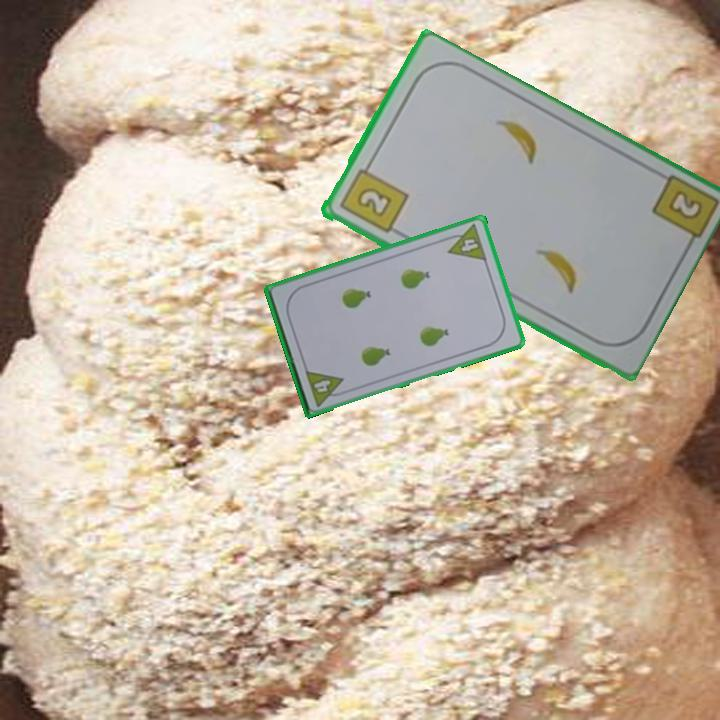2b: (335, 158, 410, 236), (668, 189, 702, 220)
4p: (441, 221, 490, 264), (302, 366, 349, 409)
